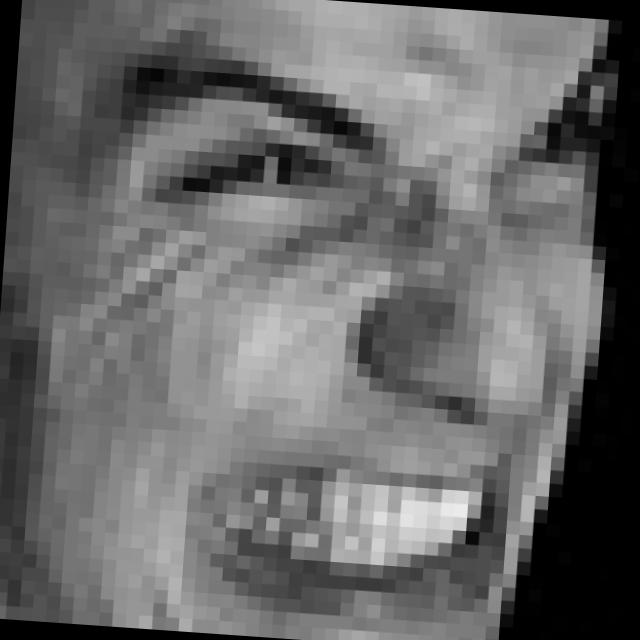angry: (84, 0, 625, 637)
